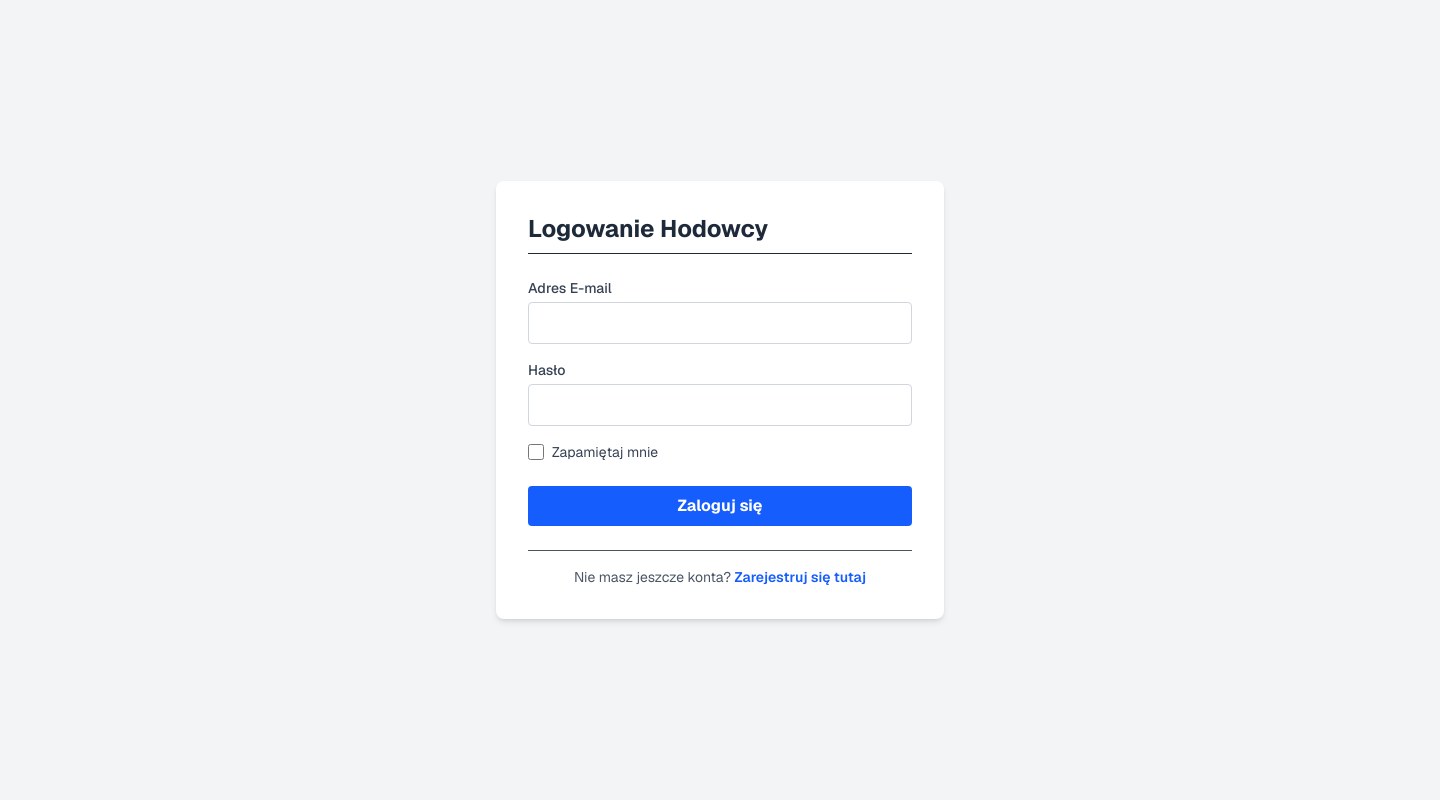
Test case: Breeder Login Process › Should log in with a session cookie when "Remember me" is not selected
The image size is (1440, 800).
Type "test.cypress1@test.cy" into the field named "email".
click(720, 323); type("test.cypress1@test.cy")  # box [528,302,912,344]
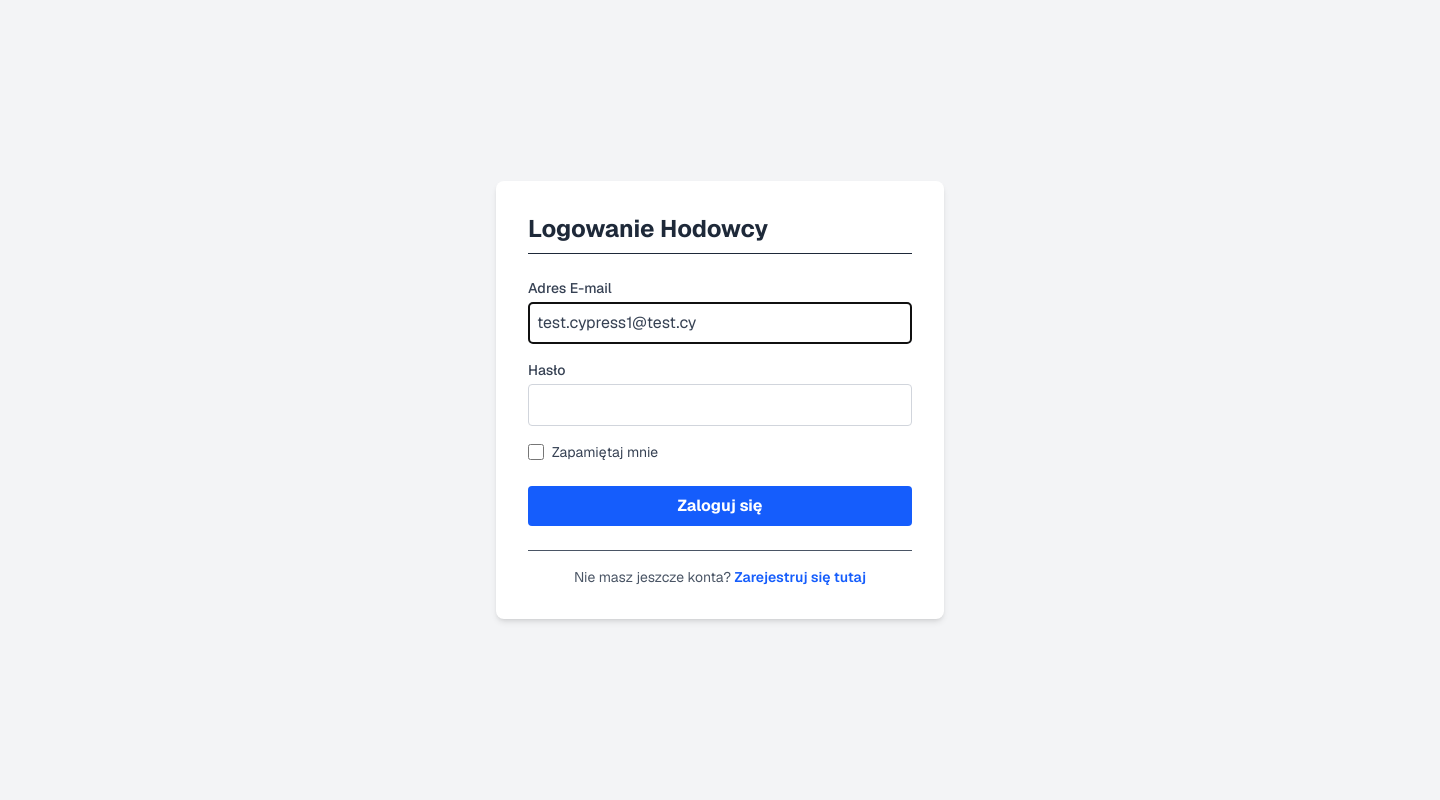
Type "Test.cypress1" into the password field named "password".
click(720, 405); type("Test.cypress1")  # box [528,384,912,426]
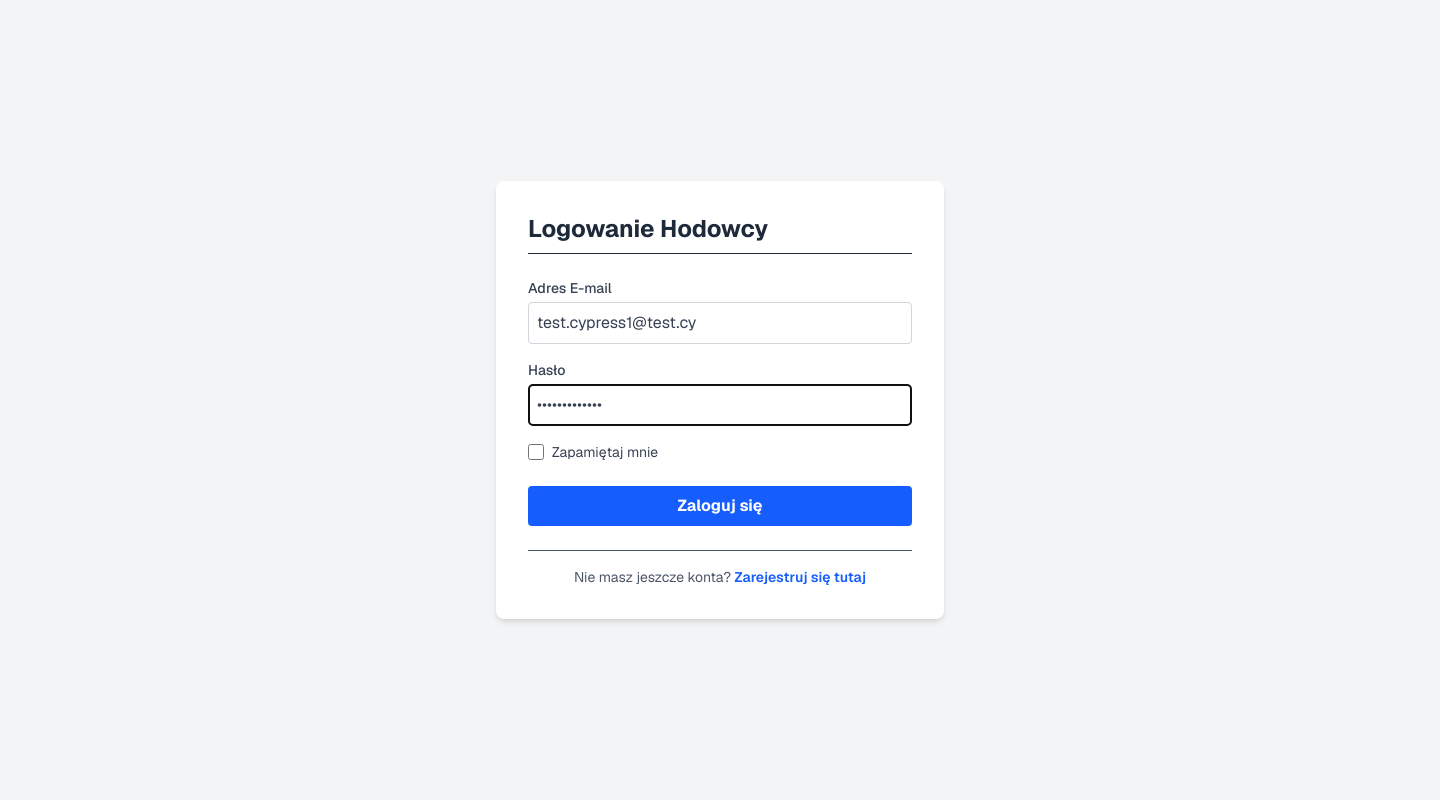
Check: the element named "remember-me" is not checked
Click the submit button.
click(720, 506)  # box [528,486,912,526]
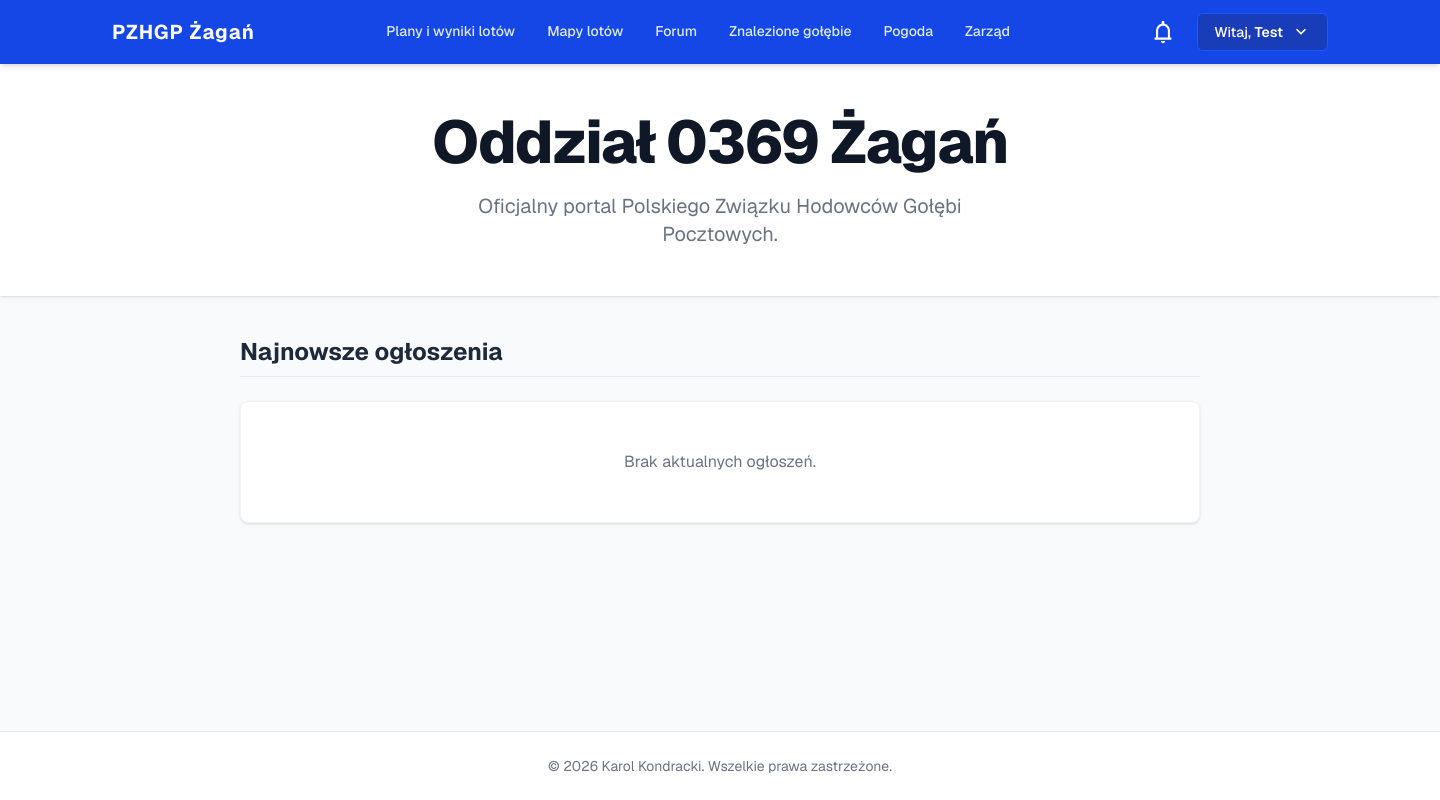
Check: the button "Witaj, Test" is shown, box [1197,13,1328,51]
